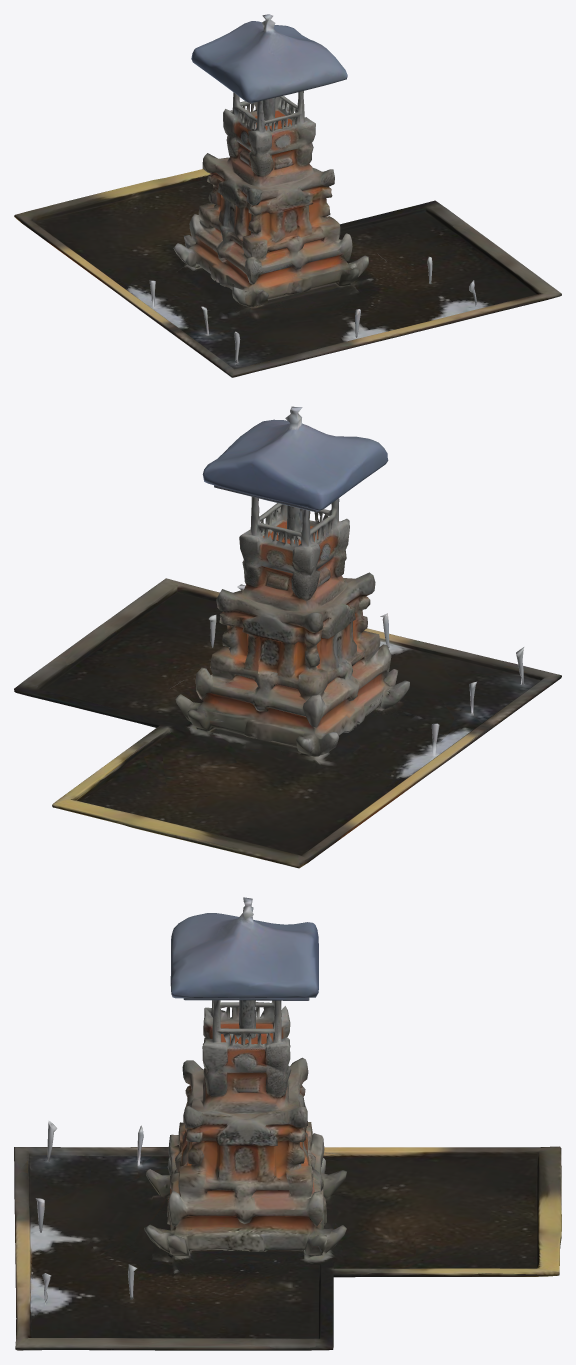
File: pura_dengan_kolam.glb
The picture shows the model from 3 angles, top to bottom: view 1: azimuth 30°, elevation 25°; view 2: azimuth 150°, elevation 25°; view 3: azimuth 270°, elevation 25°; orthographic projection. The views are drawn at different scales.
Parts seen in each view (by area): view 1: tripo_node_eafc7fc7-739b-4083-8a17-96b86732e0f5; view 2: tripo_node_eafc7fc7-739b-4083-8a17-96b86732e0f5; view 3: tripo_node_eafc7fc7-739b-4083-8a17-96b86732e0f5.
Boxes of the visible parts, x1=… form: tripo_node_eafc7fc7-739b-4083-8a17-96b86732e0f5: x1=14, y1=14, x2=561, y2=377; tripo_node_eafc7fc7-739b-4083-8a17-96b86732e0f5: x1=14, y1=406, x2=561, y2=868; tripo_node_eafc7fc7-739b-4083-8a17-96b86732e0f5: x1=14, y1=897, x2=561, y2=1350.
Bounding box in the file's own units: 0.7476 × 0.5713 × 0.8553.
Materials: 1 (1 with a texture image).
